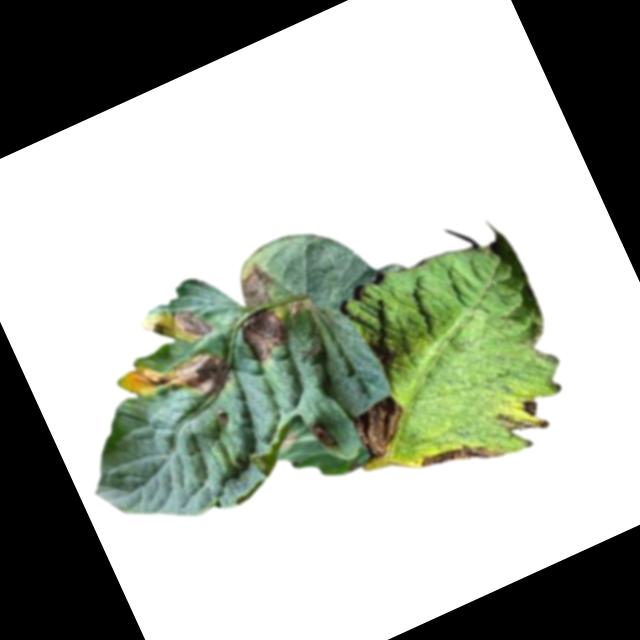Early_blight: (117, 331, 237, 428), (418, 425, 505, 490), (348, 393, 417, 463), (235, 304, 296, 367), (228, 252, 283, 313), (165, 298, 214, 347), (303, 412, 339, 455), (516, 393, 541, 420)
